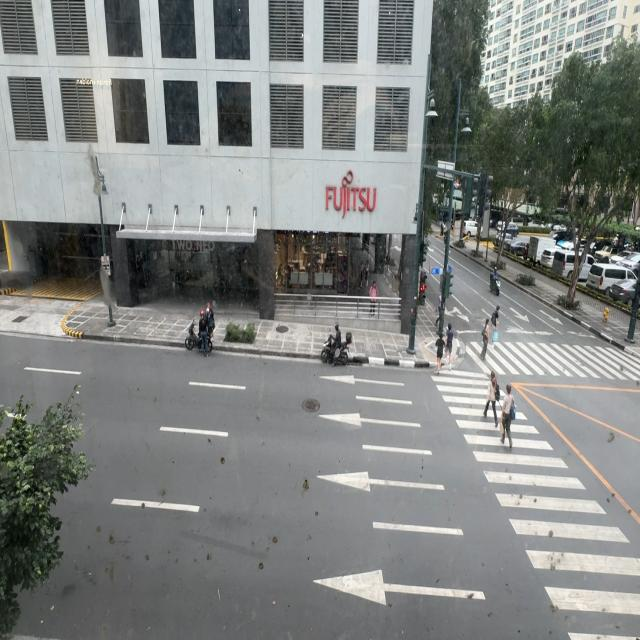crossing: (498, 384, 513, 448), (482, 372, 497, 425), (480, 319, 490, 362), (444, 324, 454, 363), (491, 306, 500, 347)
